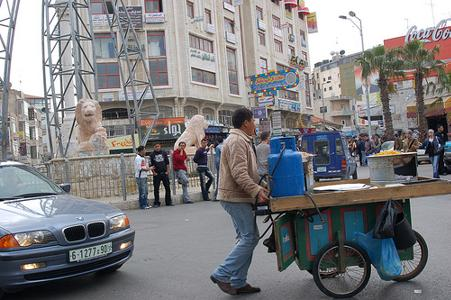person: (205, 107, 271, 296)
